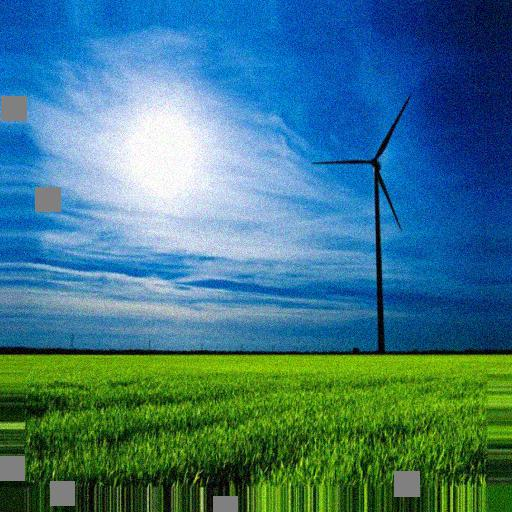wind turbine: (312, 94, 413, 354)
